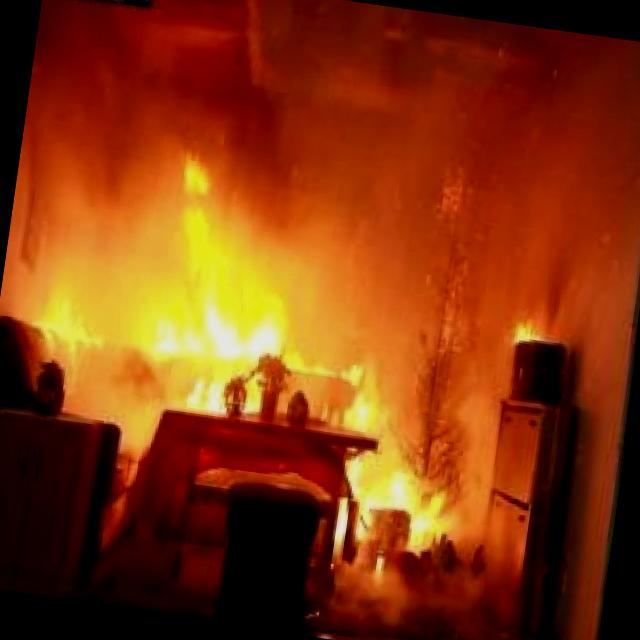fire: (0, 99, 479, 487)
